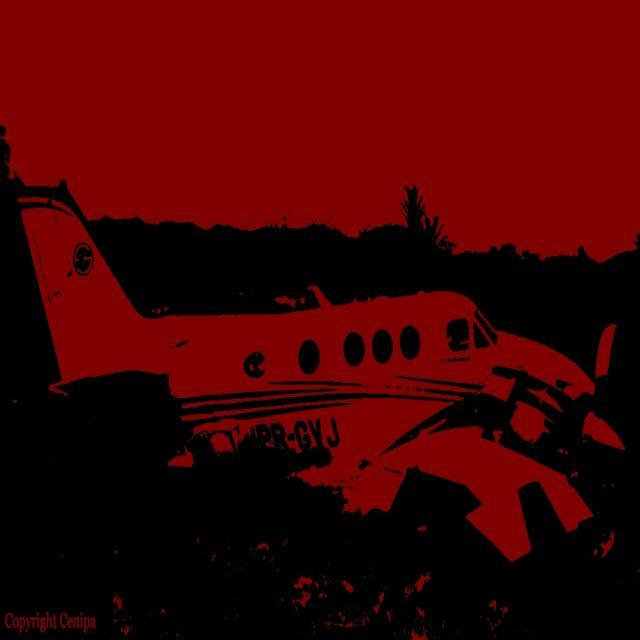dent: (171, 354, 221, 417)
